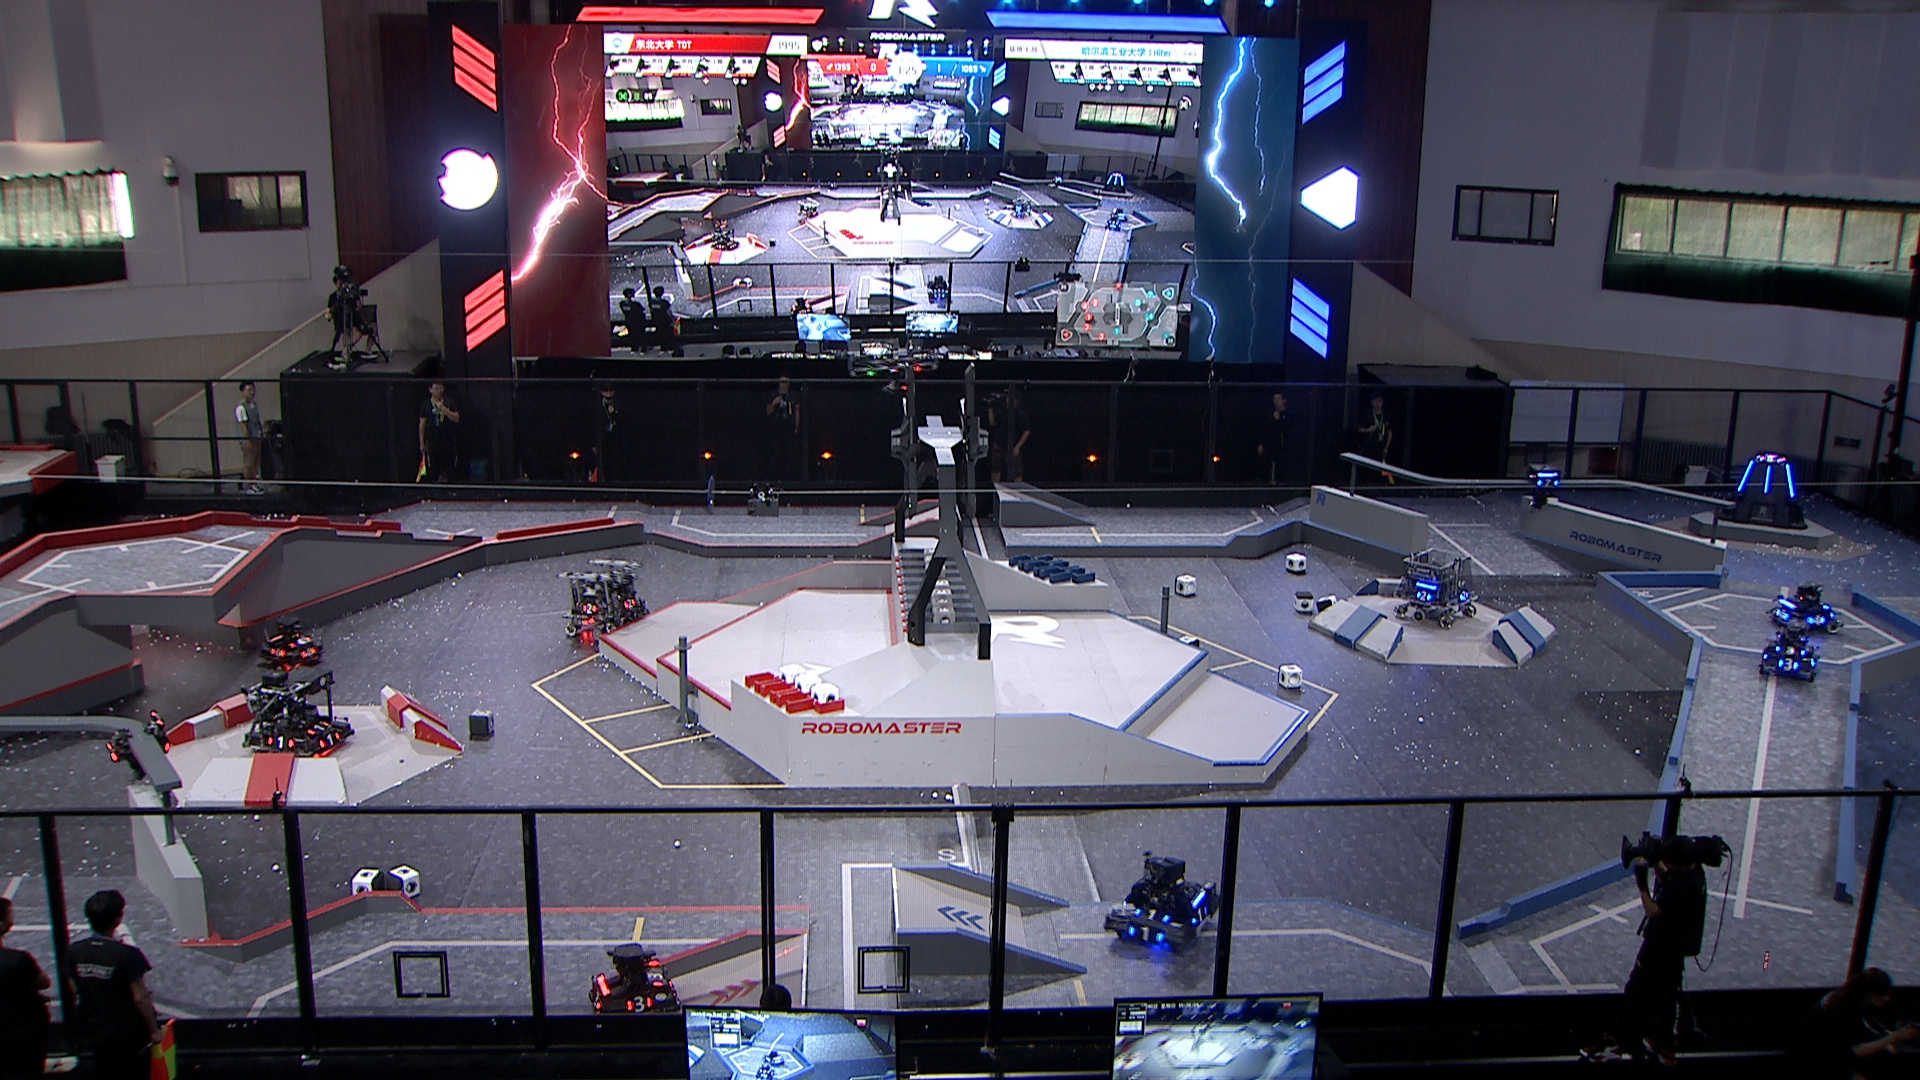armor: (1127, 922, 1167, 949), (258, 732, 301, 754), (1134, 905, 1174, 924), (584, 982, 608, 1014), (646, 960, 669, 989), (626, 993, 655, 1015), (1735, 458, 1754, 491), (314, 728, 340, 750), (305, 713, 330, 736), (1189, 903, 1211, 930), (1784, 462, 1797, 501), (1774, 641, 1809, 655), (1532, 476, 1561, 493), (103, 740, 121, 765), (1776, 655, 1801, 673), (1411, 585, 1433, 604), (1760, 465, 1774, 496), (287, 633, 314, 647), (579, 599, 597, 618), (621, 593, 641, 611), (266, 646, 291, 659), (1771, 605, 1792, 618), (301, 644, 318, 659), (1457, 588, 1474, 604), (1807, 615, 1826, 628)
base: (1716, 451, 1811, 531)
car: (1100, 847, 1220, 955), (239, 665, 353, 761), (584, 940, 684, 1025), (556, 559, 651, 646), (1387, 543, 1482, 629), (1762, 580, 1846, 638), (1753, 621, 1822, 680), (255, 616, 328, 669)
ignore: (709, 223, 741, 252), (924, 273, 953, 302), (1007, 196, 1034, 220), (793, 196, 818, 220), (1102, 171, 1130, 193), (1756, 452, 1785, 465)
watcher: (102, 707, 171, 785), (1523, 460, 1567, 513)
